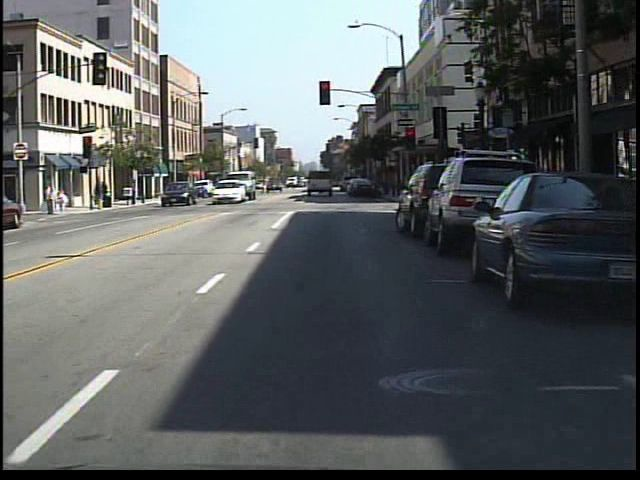person: (43, 181, 57, 219), (54, 184, 70, 215)
